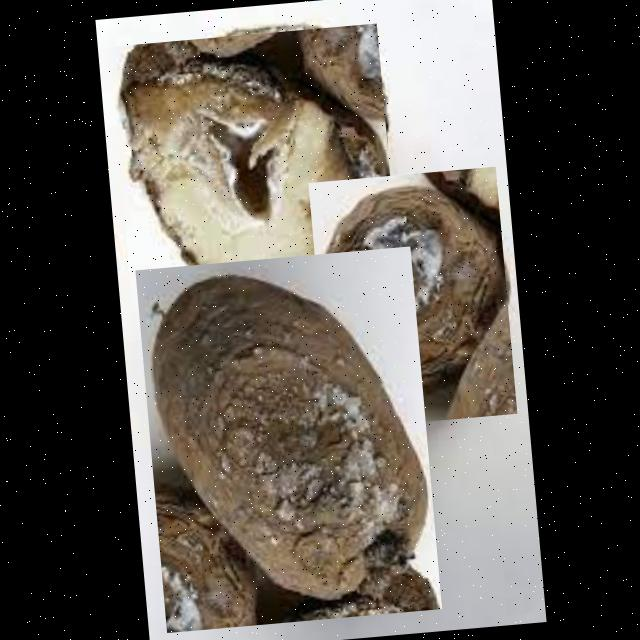Damaged potato: (134, 244, 442, 632), (110, 22, 400, 308), (308, 165, 517, 428)
